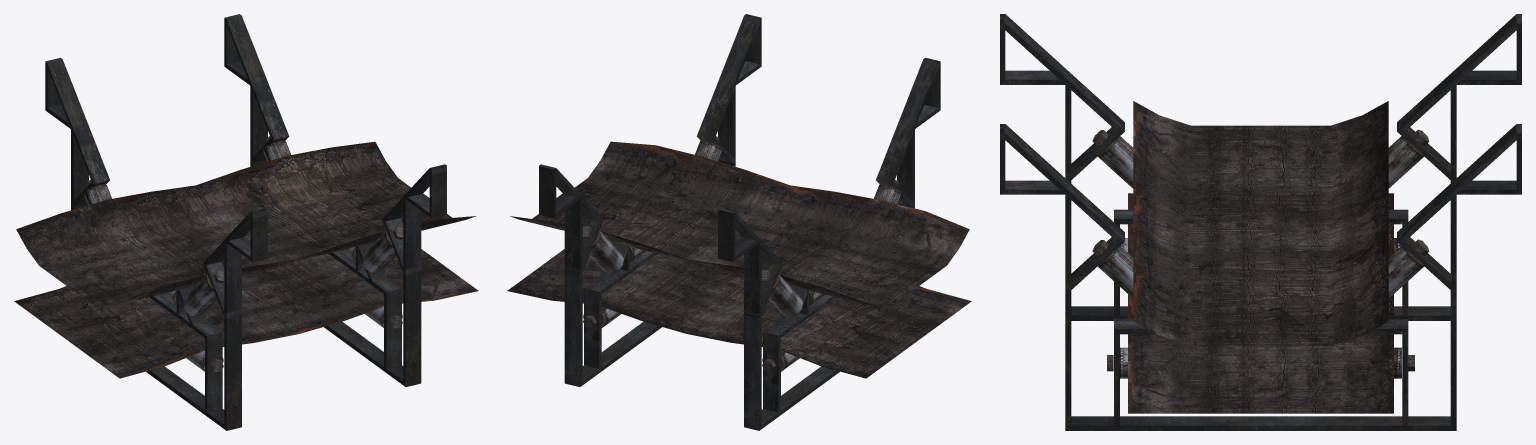
The model's file is conveyor_section_01_clean_01.DAE.
3 renders of one model, left to right at view 1: azimuth 30°, elevation 25°; view 2: azimuth 150°, elevation 25°; view 3: azimuth 270°, elevation 25°, orthographic. The views are drawn at different scales.
Visible parts, largest first — view 1: Object070, Box029, Object069; view 2: Object070, Box029, Object069; view 3: Object070, Box029, Object069.
Boxes of the visible parts, x1,y1,x2,y2 form: Object070: [14, 141, 478, 378]; Box029: [45, 14, 446, 430]; Object069: [84, 136, 403, 371]; Object070: [507, 141, 971, 378]; Box029: [539, 14, 940, 430]; Object069: [582, 136, 901, 372]; Object070: [1128, 101, 1393, 413]; Box029: [1000, 14, 1521, 430]; Object069: [1092, 129, 1429, 378].
Size of the model in its own units: 4 by 2.52 by 4.
